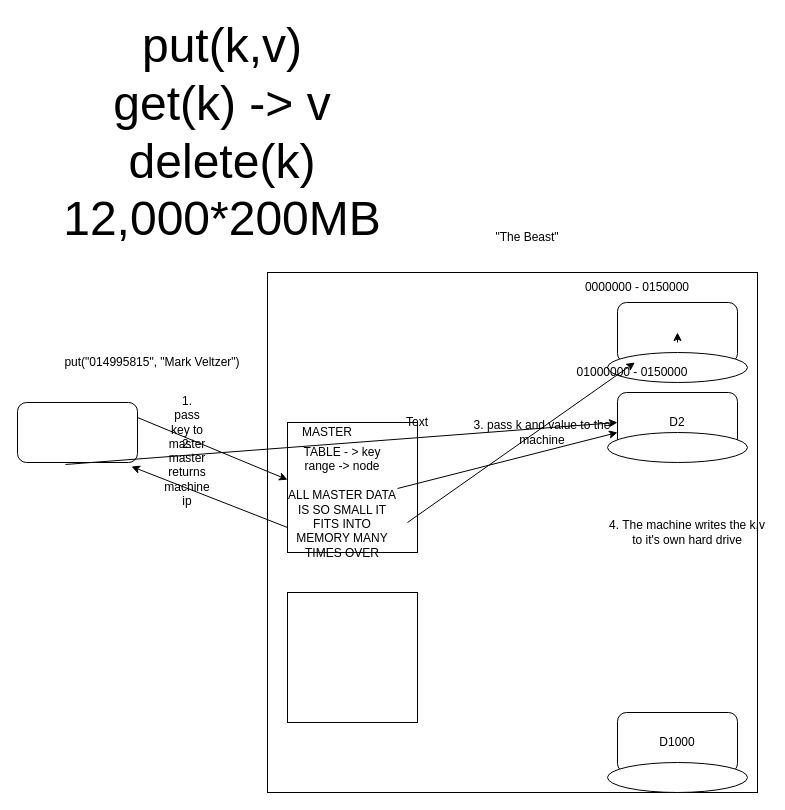
This 785x810 diagram has some shape labels left out. Each missing label, with the centre of its shape:
"CLIENT" belongs at point (77, 432).
"D1" belongs at point (677, 332).
